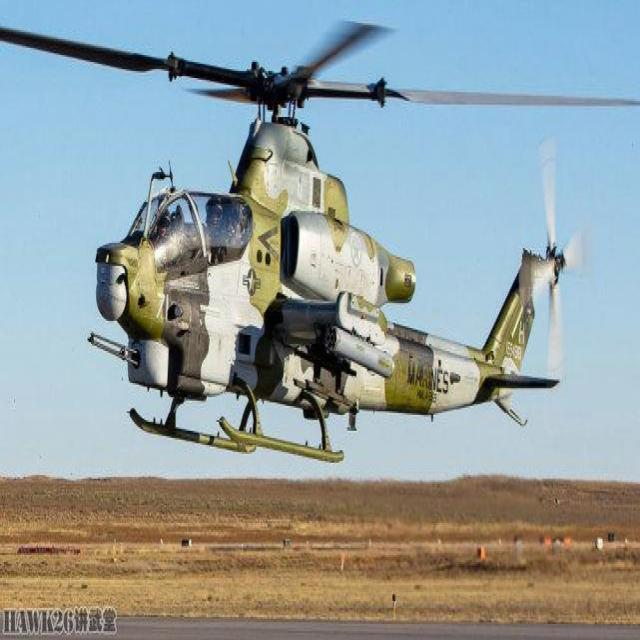MIL_HELO: (9, 6, 640, 507)
